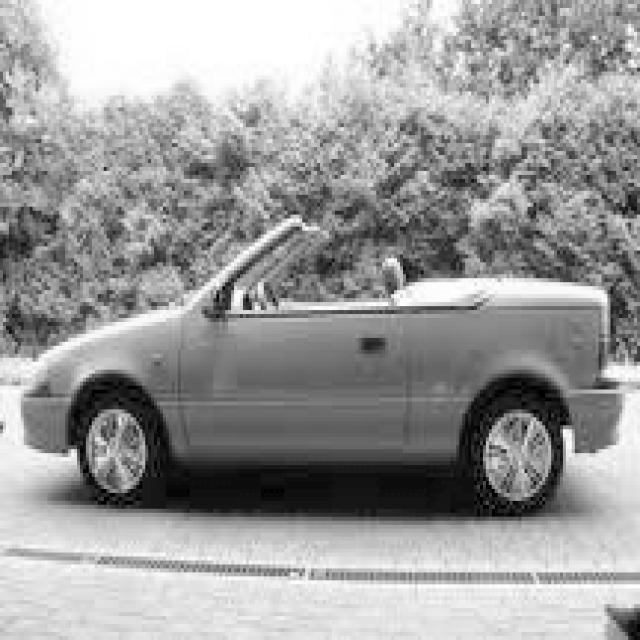car: (18, 210, 628, 516)
